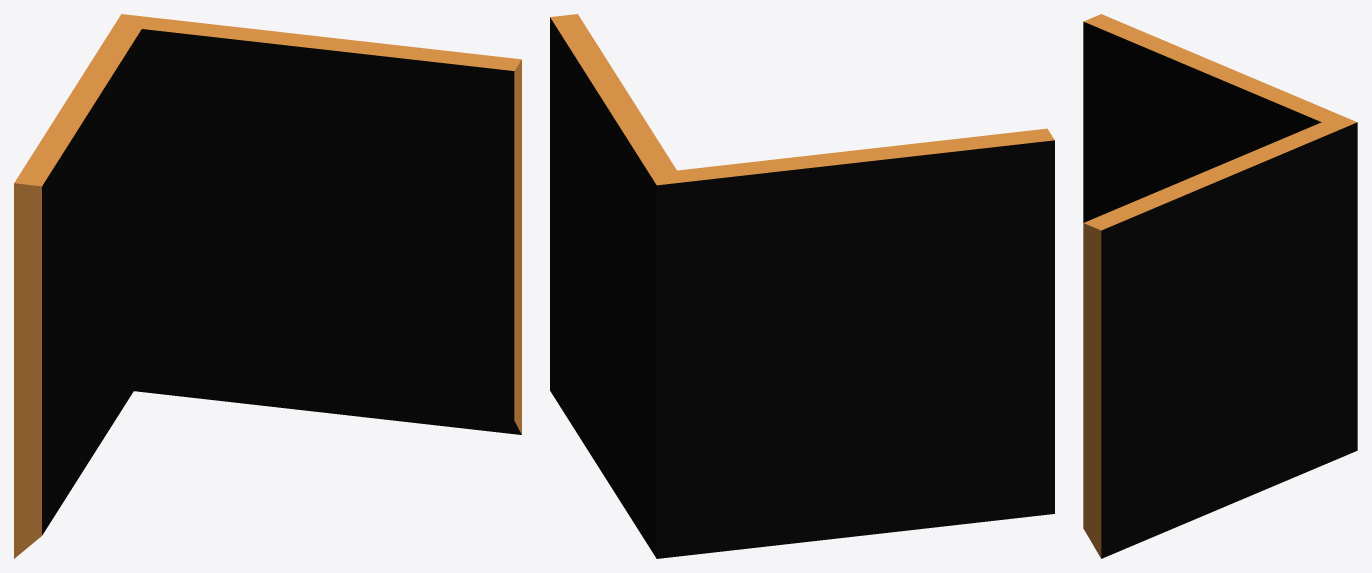
File: Walls.fbx
3 views of the same model, side by side, from view 1: azimuth 30°, elevation 25°; view 2: azimuth 150°, elevation 25°; view 3: azimuth 270°, elevation 25° (orthographic). The views are drawn at different scales.
Visible parts, largest first — view 1: Walls.006; view 2: Walls.006; view 3: Walls.006.
Boxes of the visible parts, x1,y1,x2,y2 form: Walls.006: (14, 14, 521, 558); Walls.006: (550, 14, 1054, 558); Walls.006: (1083, 14, 1357, 558).
Bounding box in the file's own units: 456 × 244 × 322.
